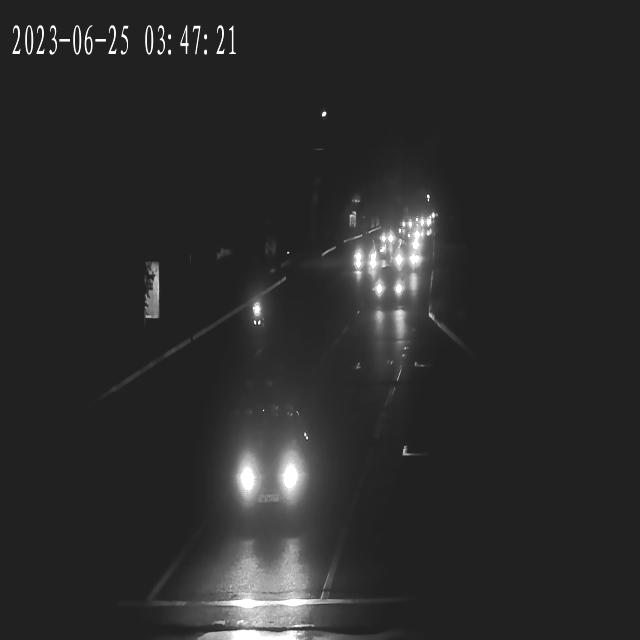Car: (229, 416, 309, 513), (371, 272, 405, 304), (415, 213, 443, 242), (350, 246, 380, 273), (390, 245, 420, 269), (376, 218, 396, 248), (402, 214, 416, 232)
